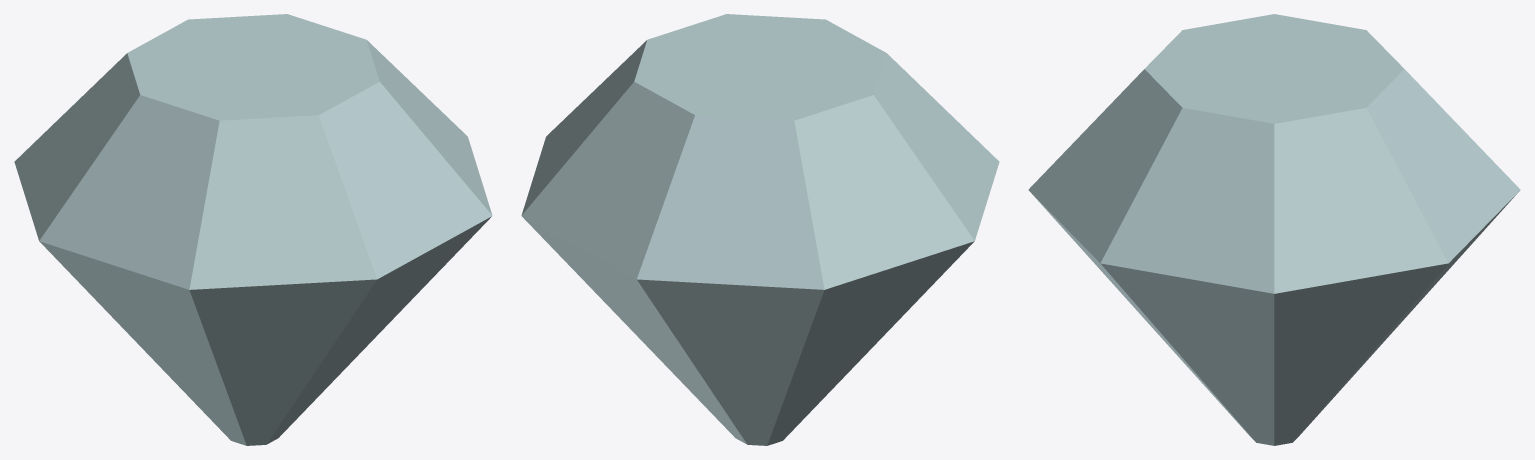
File: eight.fbx
The picture shows the model from 3 angles, left to right: view 1: azimuth 30°, elevation 25°; view 2: azimuth 150°, elevation 25°; view 3: azimuth 270°, elevation 25°; orthographic projection.
Parts seen in each view (by area): view 1: stone_Eight_cut; view 2: stone_Eight_cut; view 3: stone_Eight_cut.
Part boxes in pixels (x1=…): stone_Eight_cut: x1=14, y1=14, x2=492, y2=445; stone_Eight_cut: x1=521, y1=14, x2=999, y2=445; stone_Eight_cut: x1=1028, y1=14, x2=1520, y2=445.
Bounding box in the file's own units: 1.04 × 0.8492 × 1.04.
